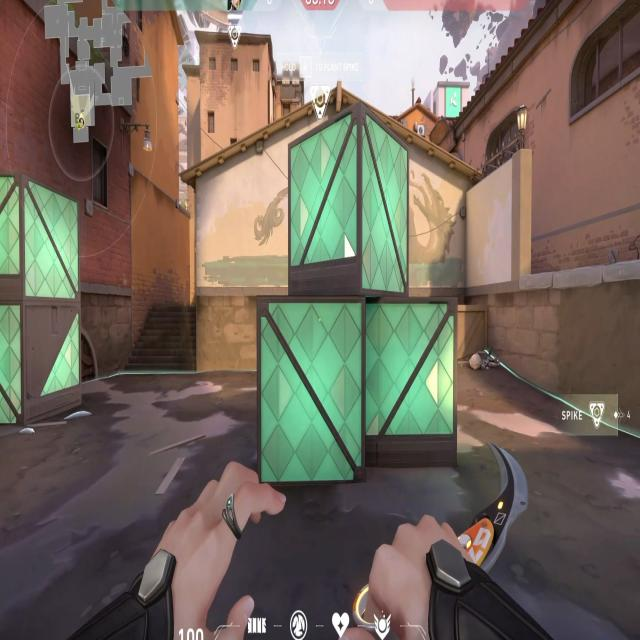B_Site_Box: (253, 99, 459, 491)
Throwables: (565, 4, 640, 133), (482, 96, 533, 182)
